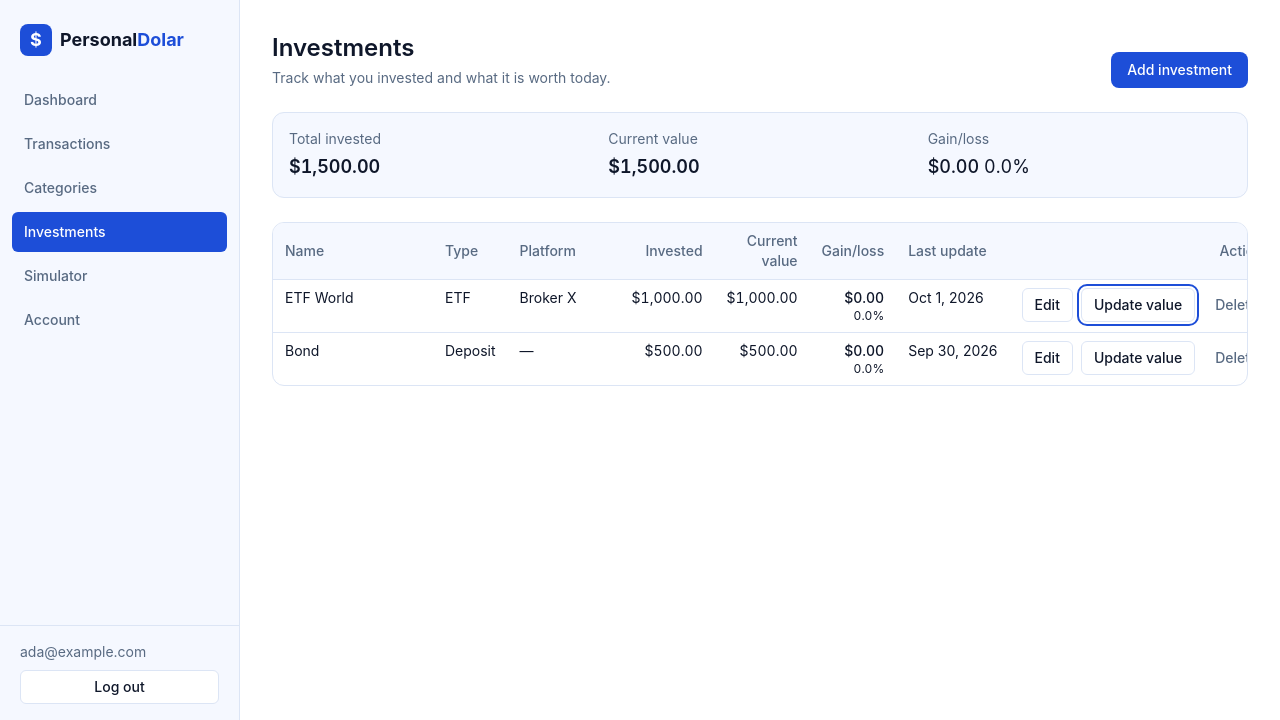
Test: Update value button and dialog › names each button after its row and opens a pre-filled, focused dialog
This screenshot has width=1280, height=720.
Check: the table named "Investments" is shown, box 273,223 -> 1248,385
Click the button with aria-label "Update value of ETF World": (1138, 305) 1081,288 -> 1195,322
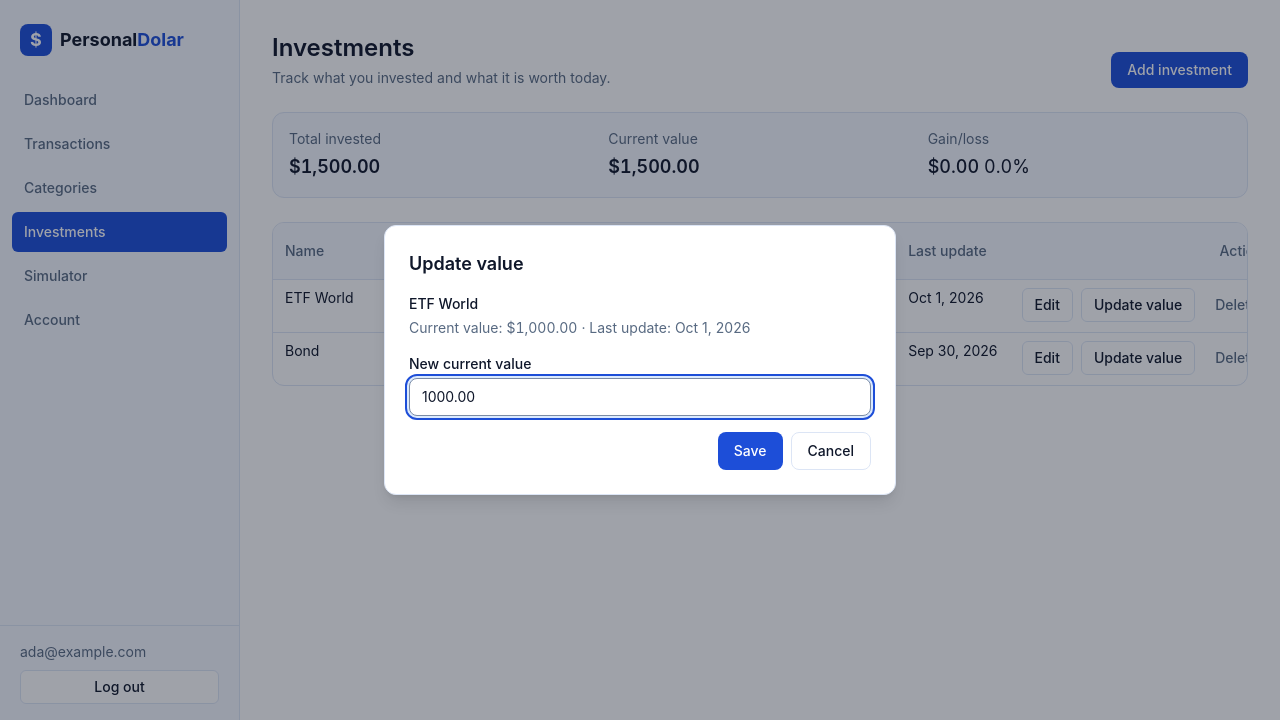
Check: the text "ETF World" is shown, box 409,295 -> 478,312
Check: the dialog "Update value" shows "Current value: $1,000.00 · Last update: Oct 1, 2026", box 384,225 -> 896,495
Check: the field labelled "New current value" holds "1000.00", box 409,378 -> 871,416
